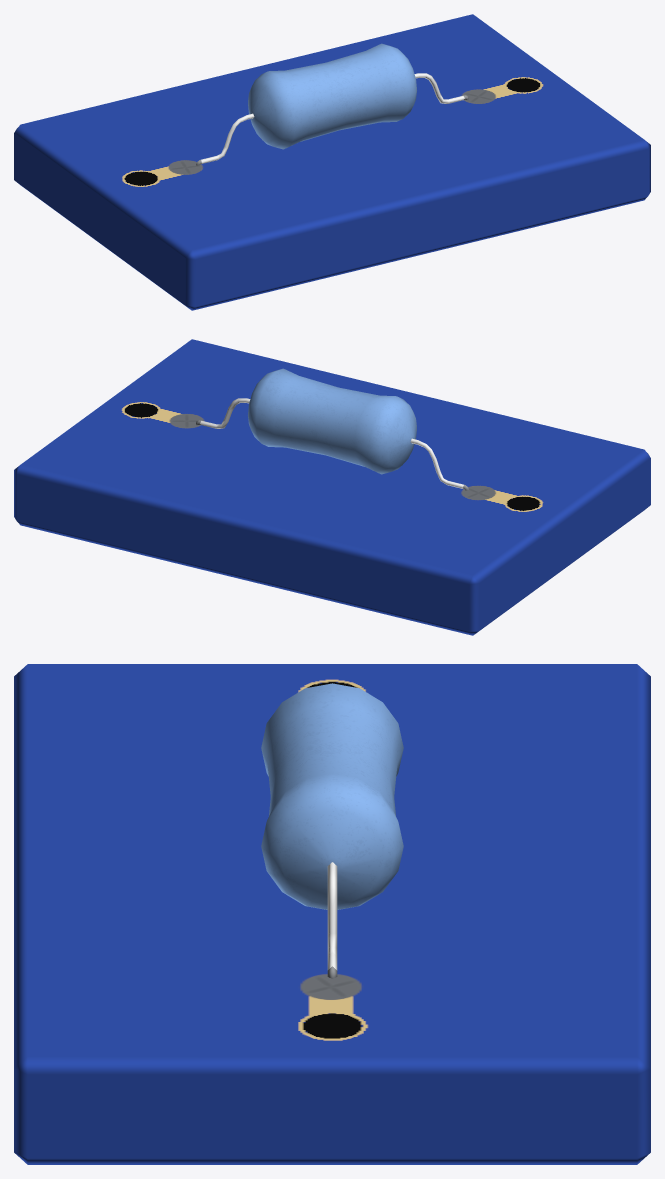
The model's file is Resistor.fbx.
The picture shows the model from 3 angles, top to bottom: view 1: azimuth 30°, elevation 25°; view 2: azimuth 150°, elevation 25°; view 3: azimuth 270°, elevation 25°; orthographic projection. The views are drawn at different scales.
Visible parts, largest first — view 1: Resistor; view 2: Resistor; view 3: Resistor.
Boxes of the visible parts, x1,y1,x2,y2 form: Resistor: [14, 14, 650, 310]; Resistor: [14, 339, 650, 635]; Resistor: [14, 664, 650, 1164].
Size of the model in its own units: 6 by 1.63 by 4.
